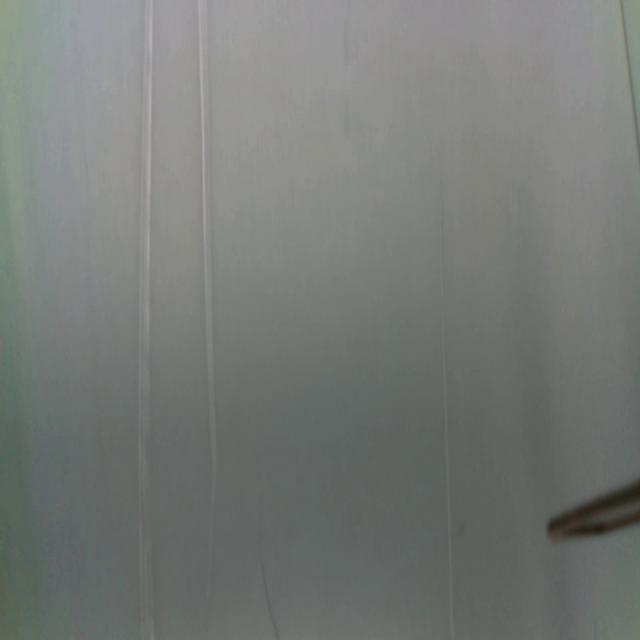crease: (136, 0, 154, 640), (197, 0, 219, 502), (434, 179, 456, 640), (618, 0, 640, 160)
